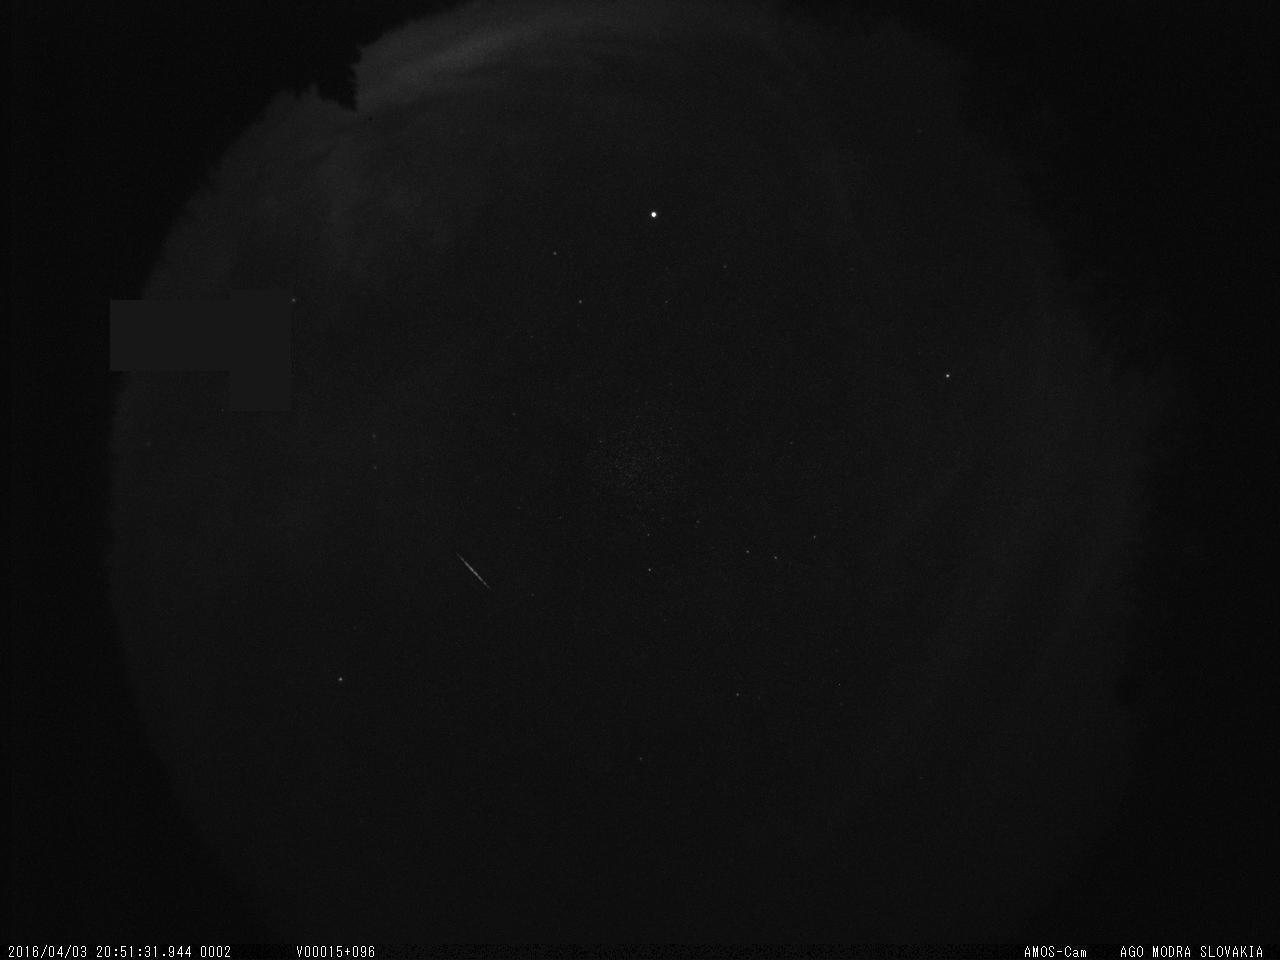Meteor: (447, 544, 504, 607)
